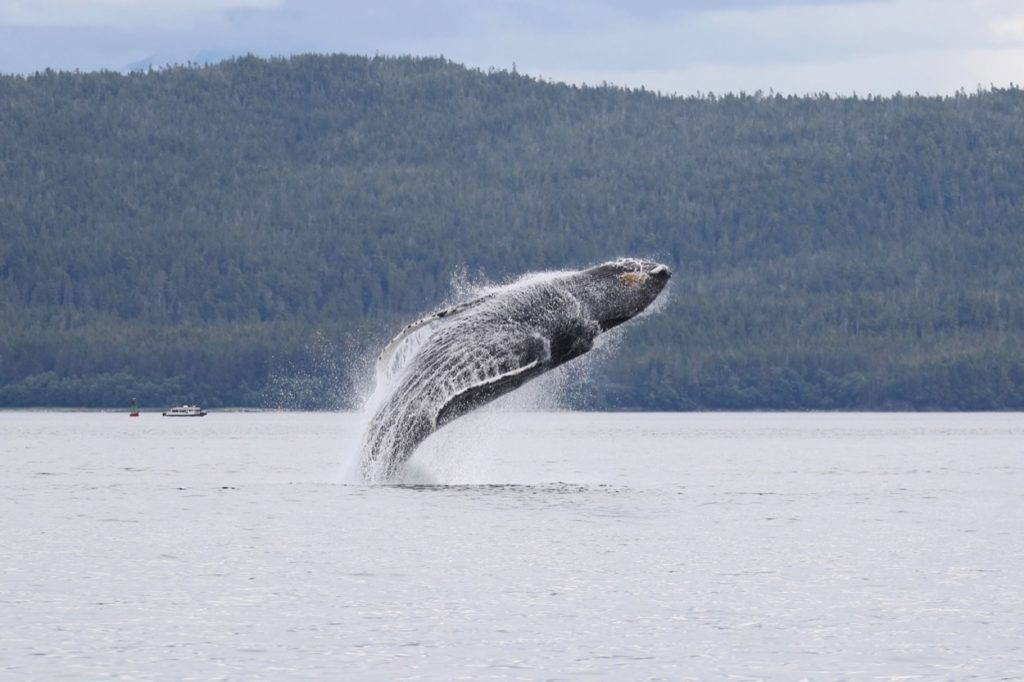humpback: (361, 251, 668, 484)
